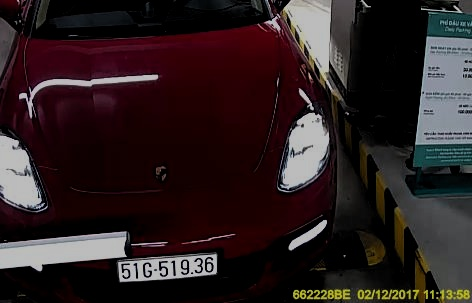plate: (116, 258, 218, 285)
